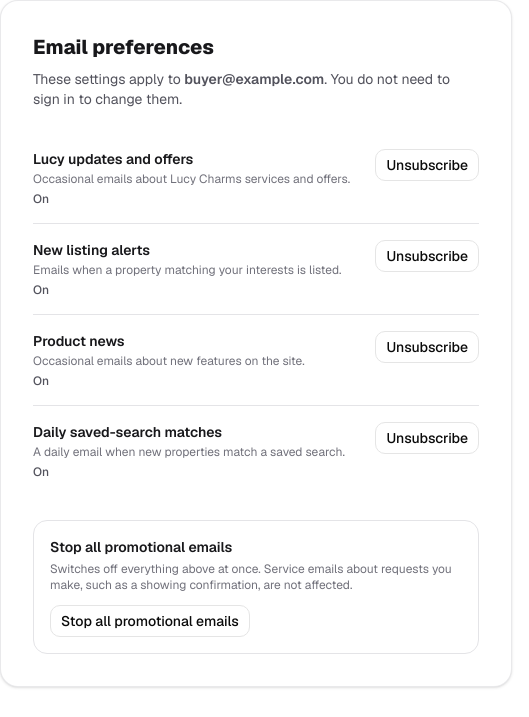
Test: the stop-all control switches off everything promotional
The width and height of the screenshot is (529, 717).
Expected: the heading "Email preferences" is shown, x1=33 y1=34 x2=214 y2=60
Click the button "Stop all promotional emails": (150, 621) x1=50 y1=605 x2=250 y2=637
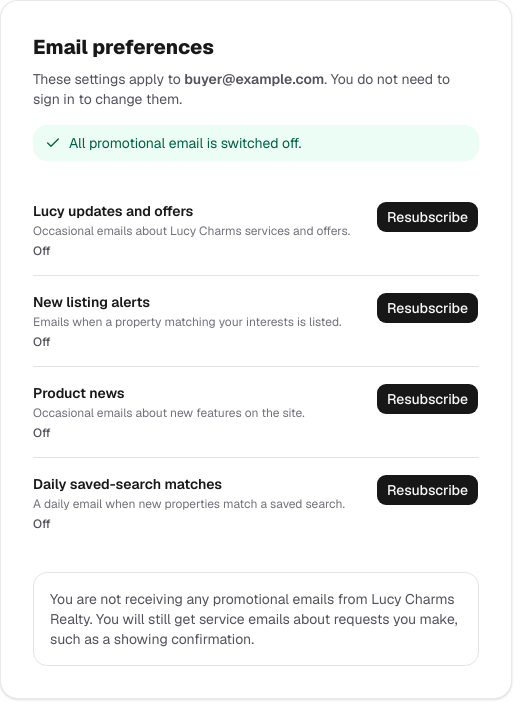
Expected: the text "still get service emails" is shown, x1=50 y1=590 x2=458 y2=648
